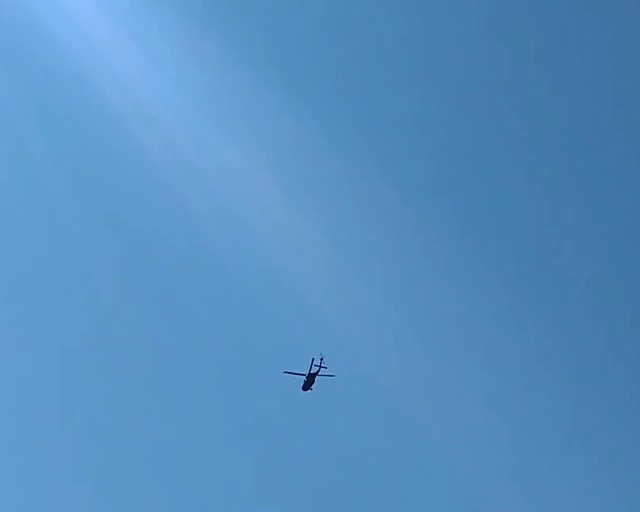HELICOPTER: (283, 353, 334, 392)
